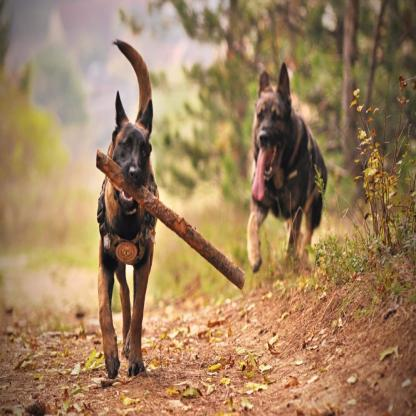dog: (96, 42, 160, 376), (247, 64, 326, 276)
